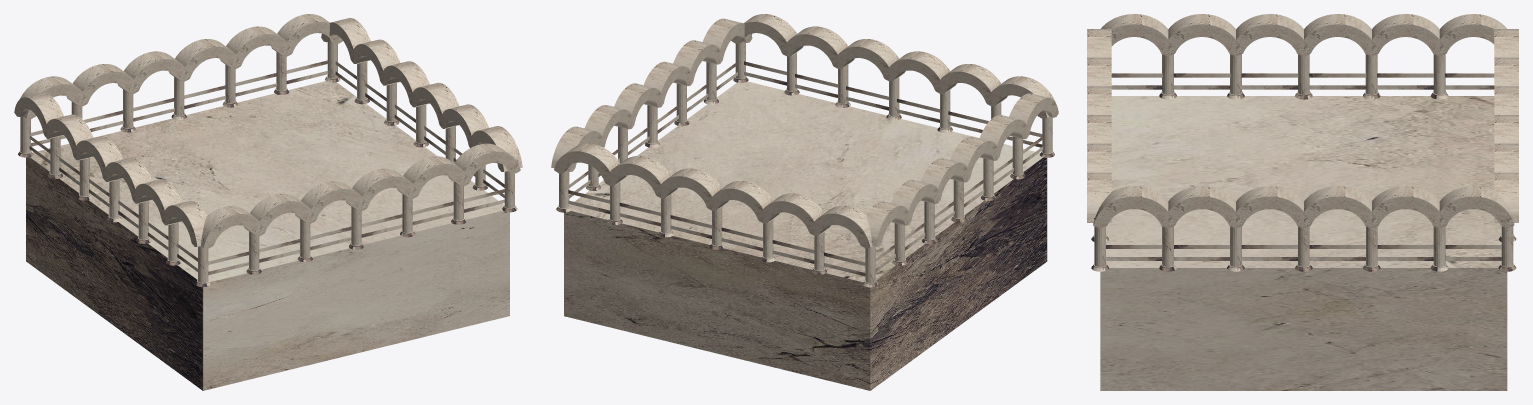
File: Stage1_1.fbx
3 renders of one model, left to right at view 1: azimuth 30°, elevation 25°; view 2: azimuth 150°, elevation 25°; view 3: azimuth 270°, elevation 25°, orthographic. The views are drawn at different scales.
Visible parts, largest first — view 1: Floor4, Arc004.012, Arc004.009, Arc004.005, Arc004.007, Arc004.008, Arc004.010, Arc004.003, Arc004.006, Arc004.011, Arc004.002, Arc004.004 (+40 smaller); view 2: Floor4, Arc004.001, Arc004.004, Arc004.002, Arc004.011, Arc004.003, Arc004.006, Arc004.010, Arc004.005, Arc004.007, Arc004.008, Arc004.009 (+38 smaller); view 3: Floor4, Arc004.018, Arc004.015, Arc004.014, Arc004.017, Arc004.013, Arc004.020, Arc004.023, Arc004.016, Arc004.024, Arc004.021, Arc004.022 (+31 smaller).
Boxes of the visible parts, x1=… form: Floor4: x1=26, y1=81, x2=509, y2=390; Arc004.012: x1=201, y1=206, x2=264, y2=248; Arc004.009: x1=448, y1=143, x2=520, y2=186; Arc004.005: x1=220, y1=26, x2=292, y2=69; Arc004.007: x1=346, y1=168, x2=418, y2=211; Arc004.008: x1=397, y1=156, x2=469, y2=198; Arc004.010: x1=295, y1=181, x2=367, y2=223; Arc004.003: x1=118, y1=51, x2=189, y2=94; Arc004.006: x1=169, y1=39, x2=241, y2=81; Arc004.011: x1=244, y1=193, x2=315, y2=236; Arc004.002: x1=67, y1=64, x2=138, y2=106; Arc004.004: x1=272, y1=14, x2=342, y2=56; Floor4: x1=564, y1=81, x2=1047, y2=390; Arc004.001: x1=814, y1=205, x2=872, y2=248; Arc004.004: x1=554, y1=143, x2=625, y2=186; Arc004.002: x1=763, y1=193, x2=829, y2=235; Arc004.011: x1=940, y1=64, x2=1006, y2=106; Arc004.003: x1=712, y1=181, x2=778, y2=223; Arc004.006: x1=661, y1=168, x2=727, y2=210; Arc004.010: x1=889, y1=51, x2=955, y2=93; Arc004.005: x1=610, y1=156, x2=676, y2=198; Arc004.007: x1=838, y1=39, x2=904, y2=81; Arc004.008: x1=787, y1=26, x2=853, y2=69; Arc004.009: x1=731, y1=14, x2=802, y2=56; Floor4: x1=1100, y1=96, x2=1507, y2=390; Arc004.018: x1=1433, y1=186, x2=1514, y2=228; Arc004.015: x1=1093, y1=186, x2=1174, y2=228; Arc004.014: x1=1161, y1=186, x2=1242, y2=228; Arc004.017: x1=1365, y1=186, x2=1446, y2=228; Arc004.013: x1=1229, y1=186, x2=1310, y2=228; Arc004.020: x1=1365, y1=14, x2=1446, y2=55; Arc004.023: x1=1161, y1=14, x2=1242, y2=55; Arc004.016: x1=1297, y1=186, x2=1378, y2=228; Arc004.024: x1=1229, y1=14, x2=1310, y2=56; Arc004.021: x1=1297, y1=14, x2=1378, y2=55; Arc004.022: x1=1101, y1=14, x2=1174, y2=55.
Bounding box in the file's own units: 63.63 × 32.52 × 63.63.
12 materials, 12 textured.
